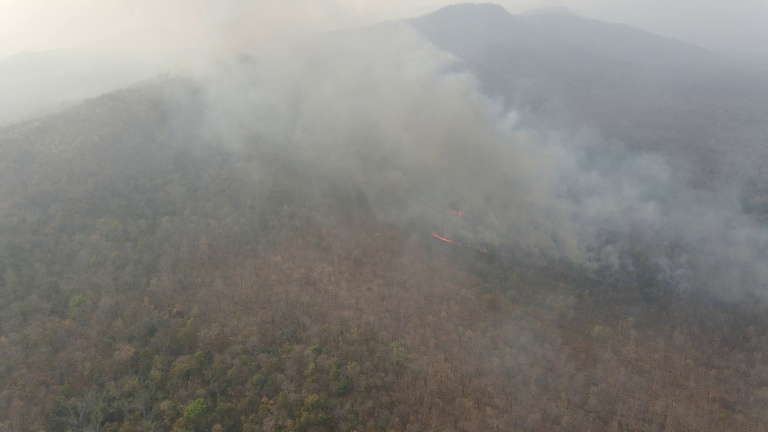fire: (427, 231, 466, 247), (443, 208, 465, 217)
smoke: (186, 1, 655, 262)
